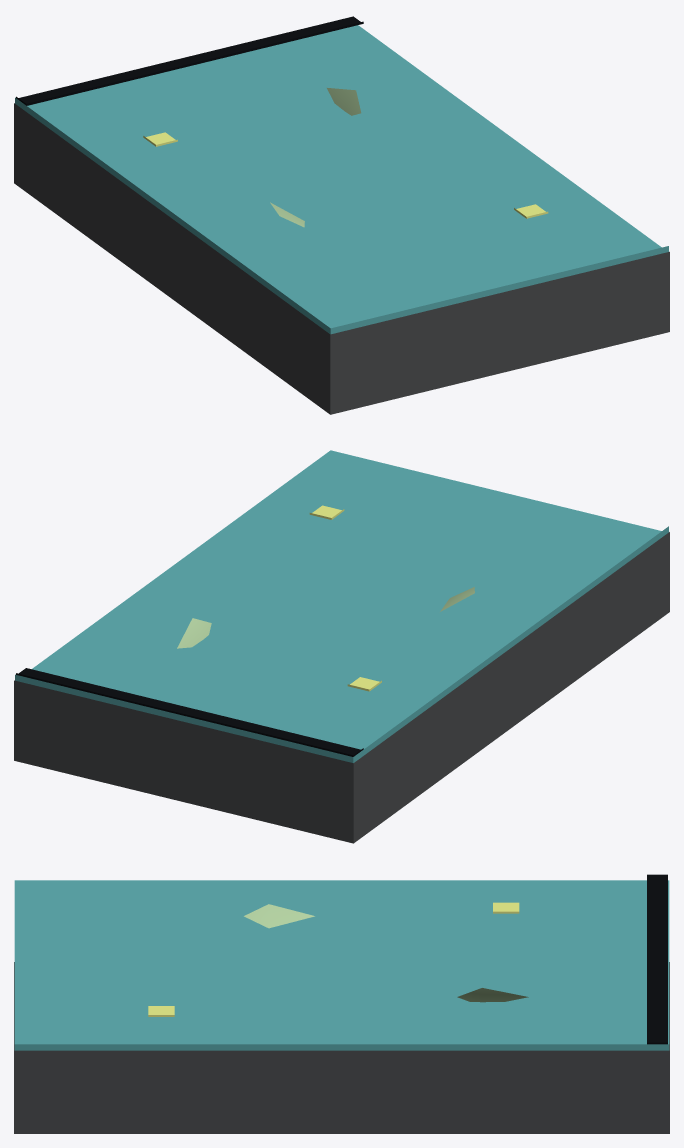
Rendered from tt_climb_mat_ring_side.glb.
3 renders of one model, top to bottom at view 1: azimuth 30°, elevation 25°; view 2: azimuth 150°, elevation 25°; view 3: azimuth 270°, elevation 25°, orthographic. The views are drawn at different scales.
Visible parts, largest first — view 1: Mat_Cover, Mat_Core, Velcro_Seam_Flap, Leaf_Print, Ball_Dots; view 2: Mat_Cover, Mat_Core, Velcro_Seam_Flap, Leaf_Print, Ball_Dots; view 3: Mat_Cover, Mat_Core, Velcro_Seam_Flap, Leaf_Print, Ball_Dots.
Part boxes in pixels (x1,y1,x2,y2): Mat_Cover: (15, 25, 668, 334); Mat_Core: (14, 103, 669, 414); Velcro_Seam_Flap: (16, 16, 363, 105); Leaf_Print: (270, 88, 361, 227); Ball_Dots: (143, 132, 548, 218); Mat_Cover: (15, 450, 668, 762); Mat_Core: (14, 532, 669, 843); Velcro_Seam_Flap: (16, 668, 363, 756); Leaf_Print: (177, 587, 474, 648); Ball_Dots: (309, 505, 381, 691); Mat_Cover: (14, 880, 669, 1050); Mat_Core: (14, 962, 669, 1133); Velcro_Seam_Flap: (647, 874, 667, 1044); Leaf_Print: (244, 904, 528, 1002); Ball_Dots: (148, 902, 519, 1016).
Size of what is drawn, in the model's own units: 1.24 by 0.3412 by 2.
Materials: 5 (1 with a texture image).
